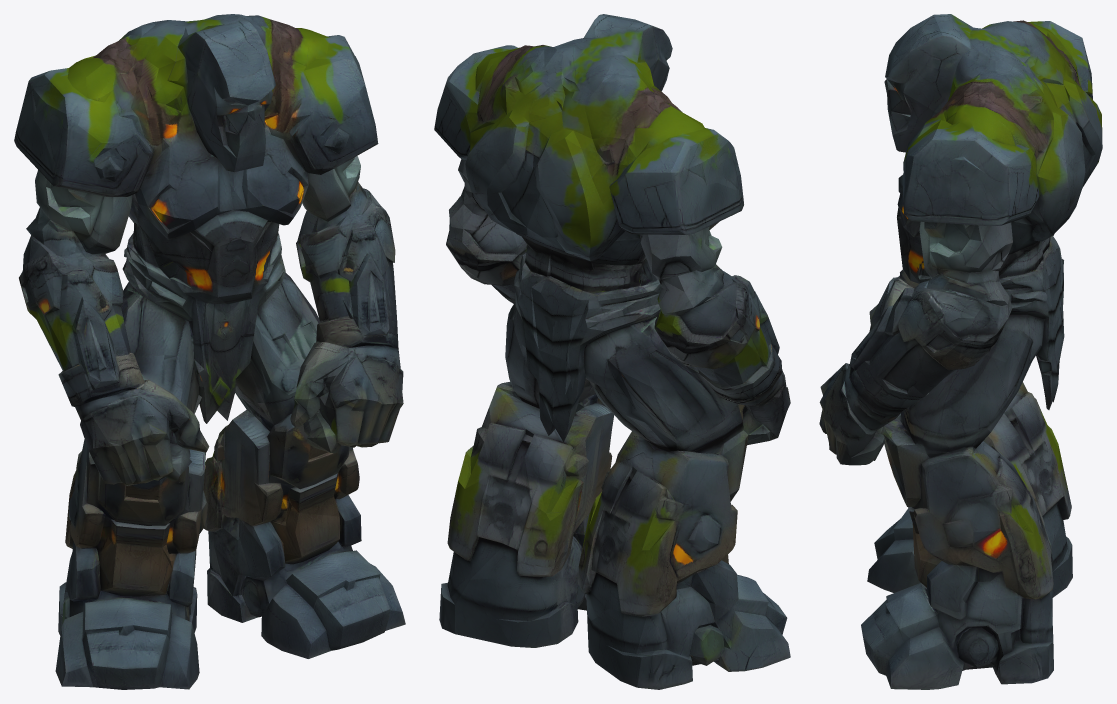
Rendered from mon_stonehulk.glb.
The picture shows the model from 3 angles, left to right: view 1: azimuth 30°, elevation 25°; view 2: azimuth 150°, elevation 25°; view 3: azimuth 270°, elevation 25°; orthographic projection. The views are drawn at different scales.
Size of the model in its own units: 1.08 by 1.9 by 0.8203.
Materials: 1 (1 with a texture image).
